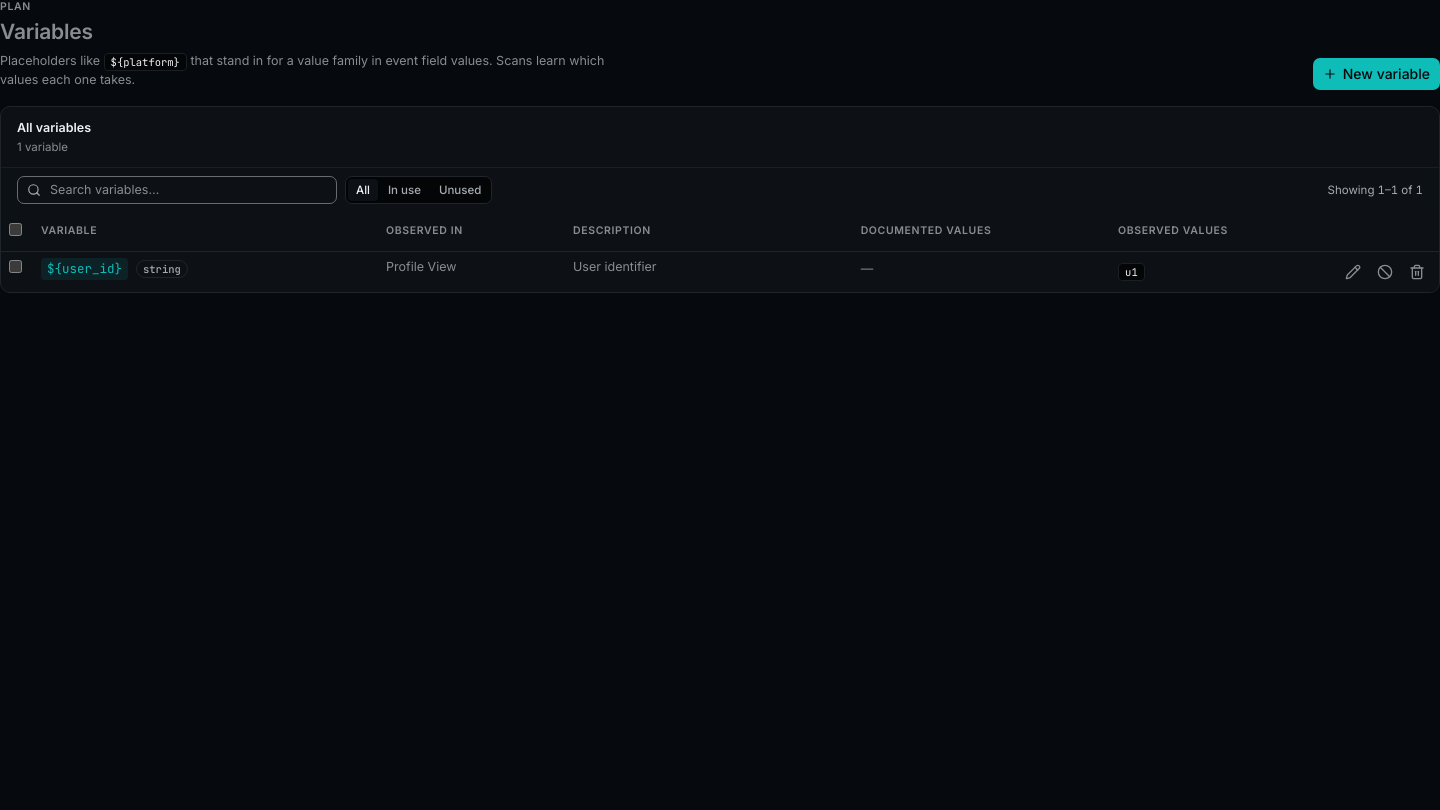
Test: VariablesTab › shows all observed values when editing a variable
Click the button named "Edit variable user_id" at (1353, 272), box [1339,258,1367,286]
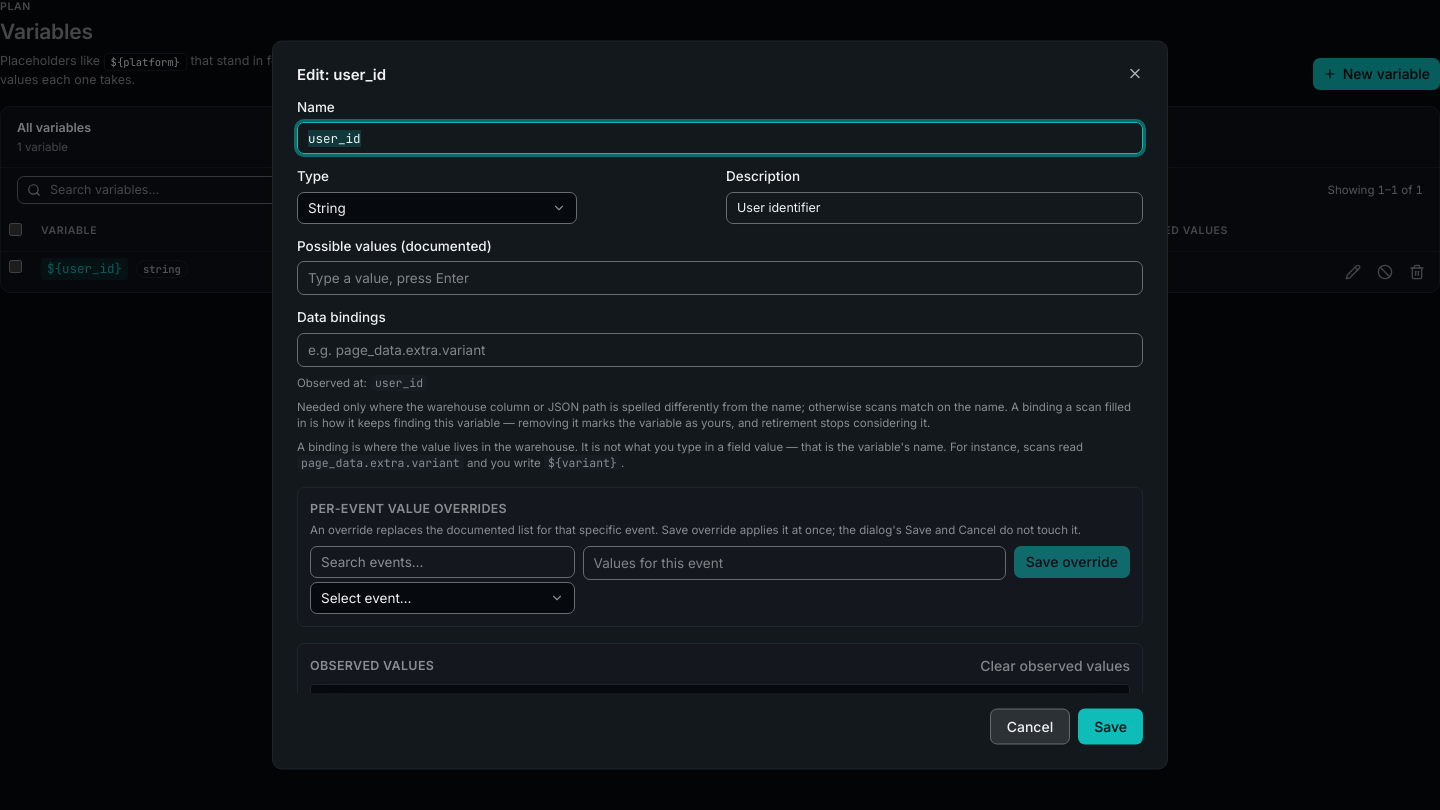
Expected: the heading "Edit: user_id" is shown, [297,64,386,84]
Expected: the text "Observed values" is shown, [310,656,434,674]
